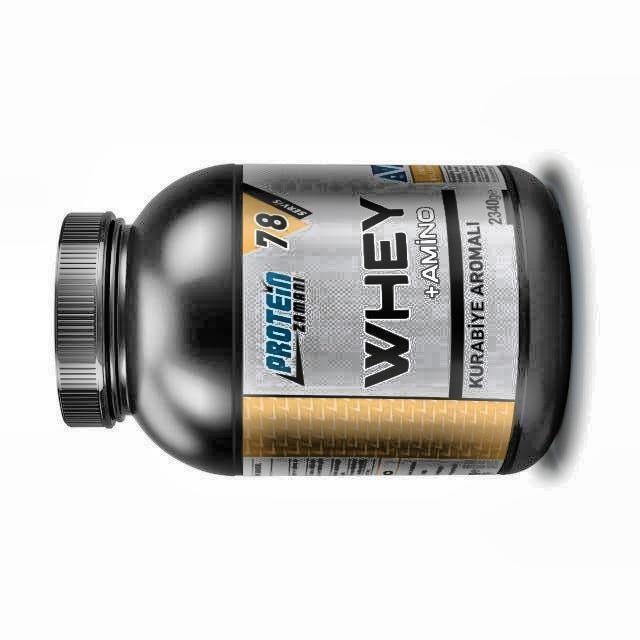plastic: (55, 165, 572, 475)
